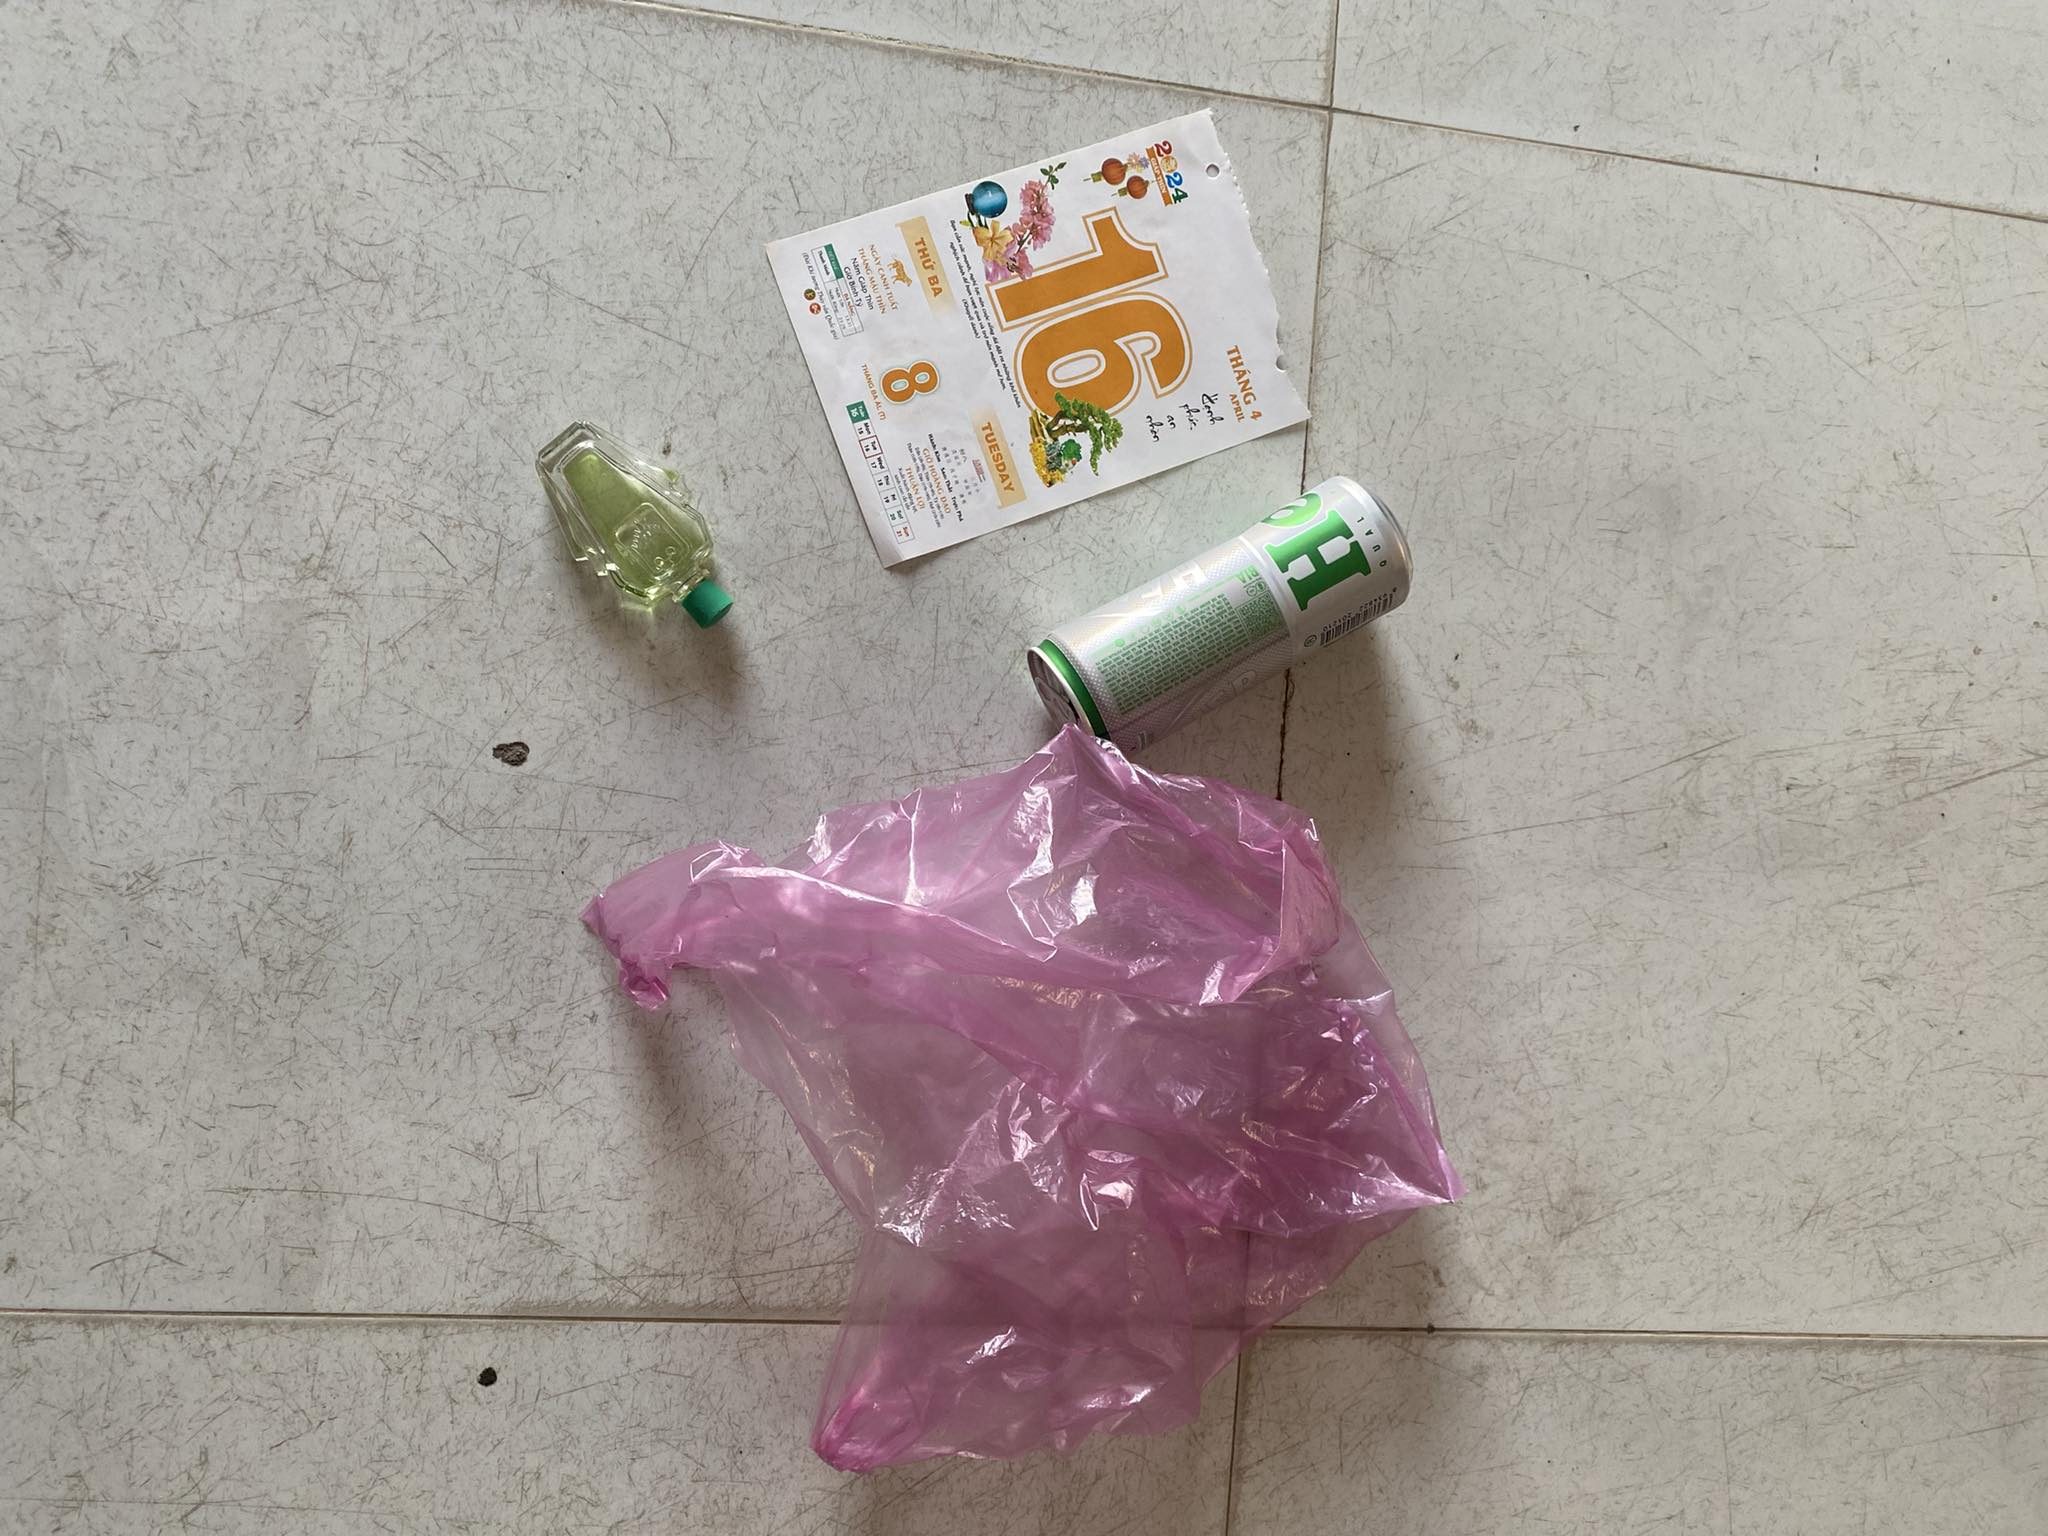metal: (1014, 463, 1424, 759), (473, 312, 786, 665)
paper: (755, 97, 1366, 567)
plastic bag: (530, 729, 1534, 1474)
